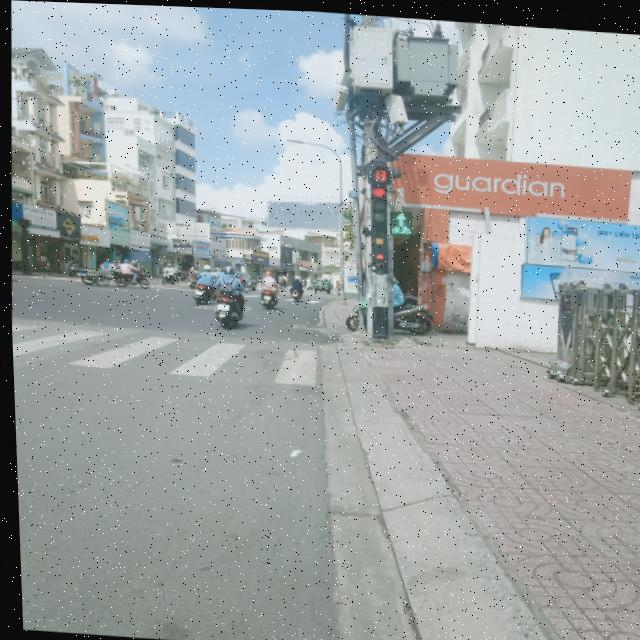Red: (362, 179, 395, 227), (371, 246, 387, 273)
